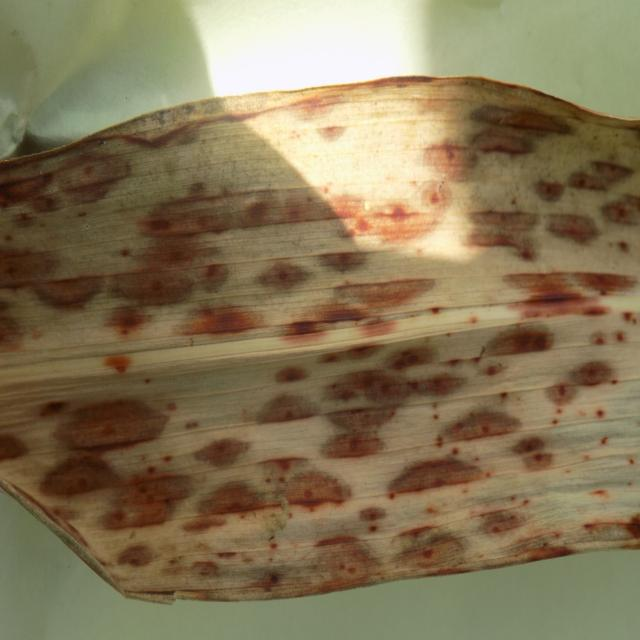millet_rust: (0, 70, 640, 605)
